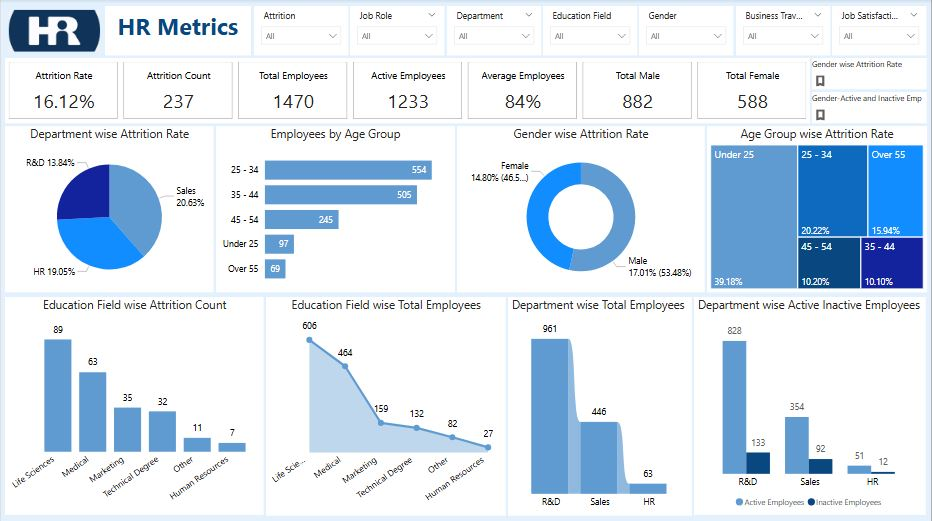

The dashboard page shown, as its layout file describes it:
{"tool":"powerbi","page":{"name":"Page 1","canvas":[1280,720],"ordinal":0},"visuals":[{"type":"slicer","fields":{"Values":["HR Data.Attrition"]},"box":[348.6,10,129.6,68.1],"z":0,"group":"g1"},{"type":"cardVisual","fields":{"Data":["HR Data.Attrition Rate","HR Data.Attrition Count","HR Data.Total Employees","HR Data.Active Employees","HR Data.Average Employees","HR Data.Total Male","HR Data.Total Female"]},"box":[5.4,81.8,1108.4,89.8],"z":0,"group":"g3"},{"type":"slicer","fields":{"Values":["HR Data.Business Travel"]},"box":[1011.5,10,129.6,68.1],"z":1000,"group":"g1"},{"type":"pieChart","title":"Department wise Attrition Rate","fields":{"Category":["HR Data.Department"],"Y":["HR Data.Attrition Rate"]},"box":[5.6,175.7,287.5,229.3],"z":1000,"group":"g3"},{"type":"slicer","fields":{"Values":["HR Data.Department"]},"box":[613.7,10,129.6,68.1],"z":2000,"group":"g1"},{"type":"barChart","title":"Employees by Age Group","fields":{"Category":["HR Data.CF_age band"],"Y":["HR Data.Total Employees"]},"box":[296,175.6,328.6,229.3],"z":2000,"group":"g3"},{"type":"slicer","fields":{"Values":["HR Data.Education Field"]},"box":[746.3,10,129.6,68.1],"z":3000,"group":"g1"},{"type":"columnChart","title":"Education Field wise Attrition Count","fields":{"Category":["HR Data.Education Field"],"Y":["HR Data.Attrition Count"]},"box":[5.6,410.3,356.4,300],"z":3000,"group":"g3"},{"type":"slicer","fields":{"Values":["HR Data.Gender"]},"box":[878.9,10,129.6,68.1],"z":4000,"group":"g1"},{"type":"donutChart","title":"Gender wise Attrition Rate","fields":{"Y":["HR Data.Attrition Rate"],"Category":["HR Data.Gender"]},"box":[627.2,175.7,341.2,229.1],"z":4000,"group":"g3"},{"type":"slicer","fields":{"Values":["HR Data.Job Role"]},"box":[481.2,10,129.6,68.1],"z":5000,"group":"g1"},{"type":"treemap","title":"Age Group wise Attrition Rate","fields":{"Values":["HR Data.Attrition Rate"],"Group":["HR Data.CF_age band"]},"box":[971,175.7,302.7,229.3],"z":5000,"group":"g3"},{"type":"textbox","box":[143.5,10,200.6,68.1],"z":6000,"group":"g3"},{"type":"slicer","fields":{"Values":["HR Data.Job Satisfaction"]},"box":[1144,10,129.6,68.1],"z":6000,"group":"g1"},{"type":"image","box":[5.6,10,136.1,68.1],"z":7000,"group":"g3"},{"type":"areaChart","title":"Education Field wise Total Employees","fields":{"Y":["HR Data.Total Employees"],"Category":["HR Data.Education Field"]},"box":[364.7,410.3,330.4,300.9],"z":8000,"group":"g3"},{"type":"columnChart","title":"Department wise Total Employees","fields":{"Category":["HR Data.Department"],"Y":["HR Data.Total Employees"]},"box":[697.9,410.3,253,300.9],"z":9000,"group":"g3"},{"type":"clusteredColumnChart","title":"Department wise Active Inactive Employees","fields":{"Category":["HR Data.Department"],"Y":["HR Data.Active Employees","HR Data.Inactive Employees"]},"box":[954.2,410.6,319.4,300],"z":10000,"group":"g3"},{"type":"group","id":"g1","title":"Group 1","box":[348.6,10,925.1,68.1],"z":11000,"group":"g3"},{"type":"actionButton","title":"Gender wise Attrition Rate","box":[1116.4,81.6,157.5,42.9],"z":13000,"group":"g2"},{"type":"actionButton","title":"Gender-Active and Inactive Emp","box":[1116.4,127.9,157.5,43.3],"z":13001,"group":"g2"},{"type":"group","id":"g2","title":"Group 2","box":[1116.4,81.6,157.5,89.6],"z":13002,"group":"g3"},{"type":"group","id":"g3","title":"Group 3","box":[5.4,10,1268.2,700.7],"z":13003}]}

Visuals, with their boxes in screenshot pixels (x1, y1, x2, y2), scaled from the page's 1280x720 canvas onto the 932x521 screenshot:
slicer - HR Data.Attrition: <box>254,7,348,57</box>
cardVisual - HR Data.Attrition Rate x HR Data.Attrition Count: <box>4,59,811,124</box>
slicer - HR Data.Business Travel: <box>736,7,831,57</box>
"Department wise Attrition Rate" pieChart: <box>4,127,213,293</box>
slicer - HR Data.Department: <box>447,7,541,57</box>
"Employees by Age Group" barChart: <box>216,127,455,293</box>
slicer - HR Data.Education Field: <box>543,7,638,57</box>
"Education Field wise Attrition Count" columnChart: <box>4,297,264,514</box>
slicer - HR Data.Gender: <box>640,7,734,57</box>
"Gender wise Attrition Rate" donutChart: <box>457,127,705,293</box>
slicer - HR Data.Job Role: <box>350,7,445,57</box>
"Age Group wise Attrition Rate" treemap: <box>707,127,927,293</box>
textbox: <box>104,7,251,57</box>
slicer - HR Data.Job Satisfaction: <box>833,7,927,57</box>
image: <box>4,7,103,57</box>
"Education Field wise Total Employees" areaChart: <box>266,297,506,515</box>
"Department wise Total Employees" columnChart: <box>508,297,692,515</box>
"Department wise Active Inactive Employees" clusteredColumnChart: <box>695,297,927,514</box>
"Group 1" group: <box>254,7,927,57</box>
"Gender wise Attrition Rate" actionButton: <box>813,59,928,90</box>
"Gender-Active and Inactive Emp" actionButton: <box>813,93,928,124</box>
"Group 2" group: <box>813,59,928,124</box>
"Group 3" group: <box>4,7,927,514</box>
